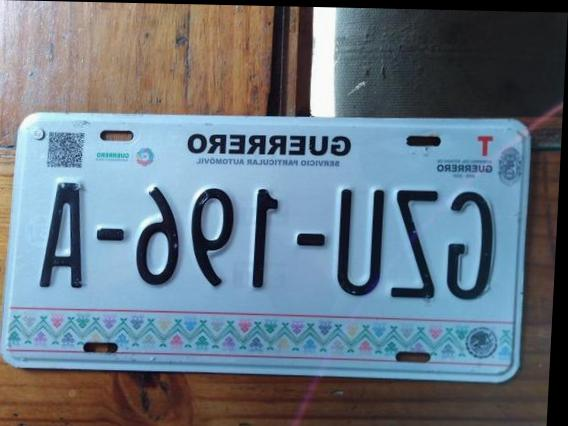License_Plate: (0, 97, 537, 386)
